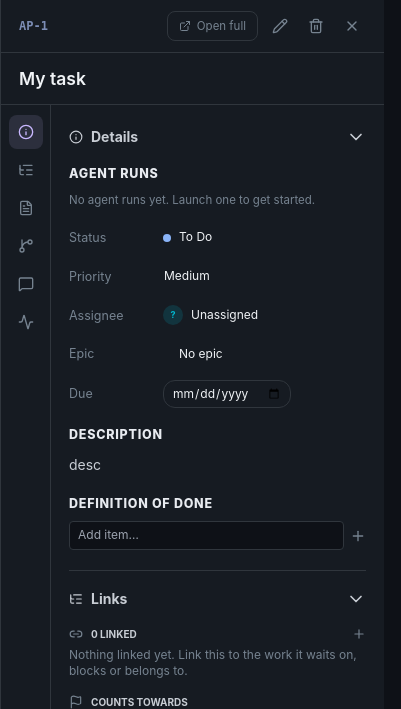
Test: TaskDetailPanel — edit mode Branch & PR › hides the standalone close (X) in edit mode — Cancel covers it
This screenshot has width=401, height=709.
Expected: the button titled "Close" is shown, x1=338 y1=12 x2=366 y2=40
What coordinates should you click on to do the following:
click the button titled "Edit"
I would click on:
 (280, 26)
Its box is x1=266 y1=12 x2=294 y2=40.
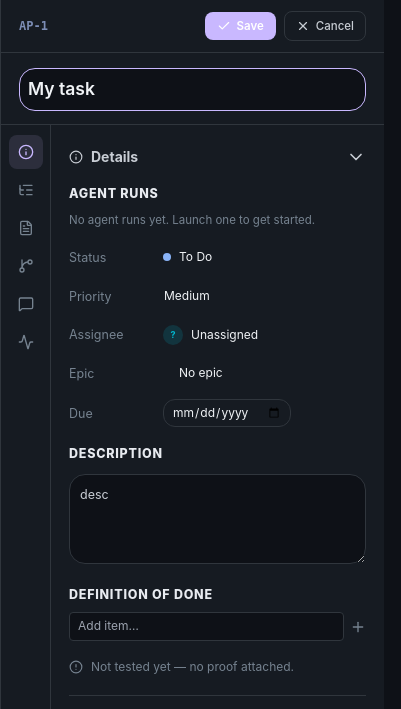
Expected: the button titled "Close" is gone
Expected: the button "Cancel" is shown, x1=284 y1=11 x2=366 y2=41
